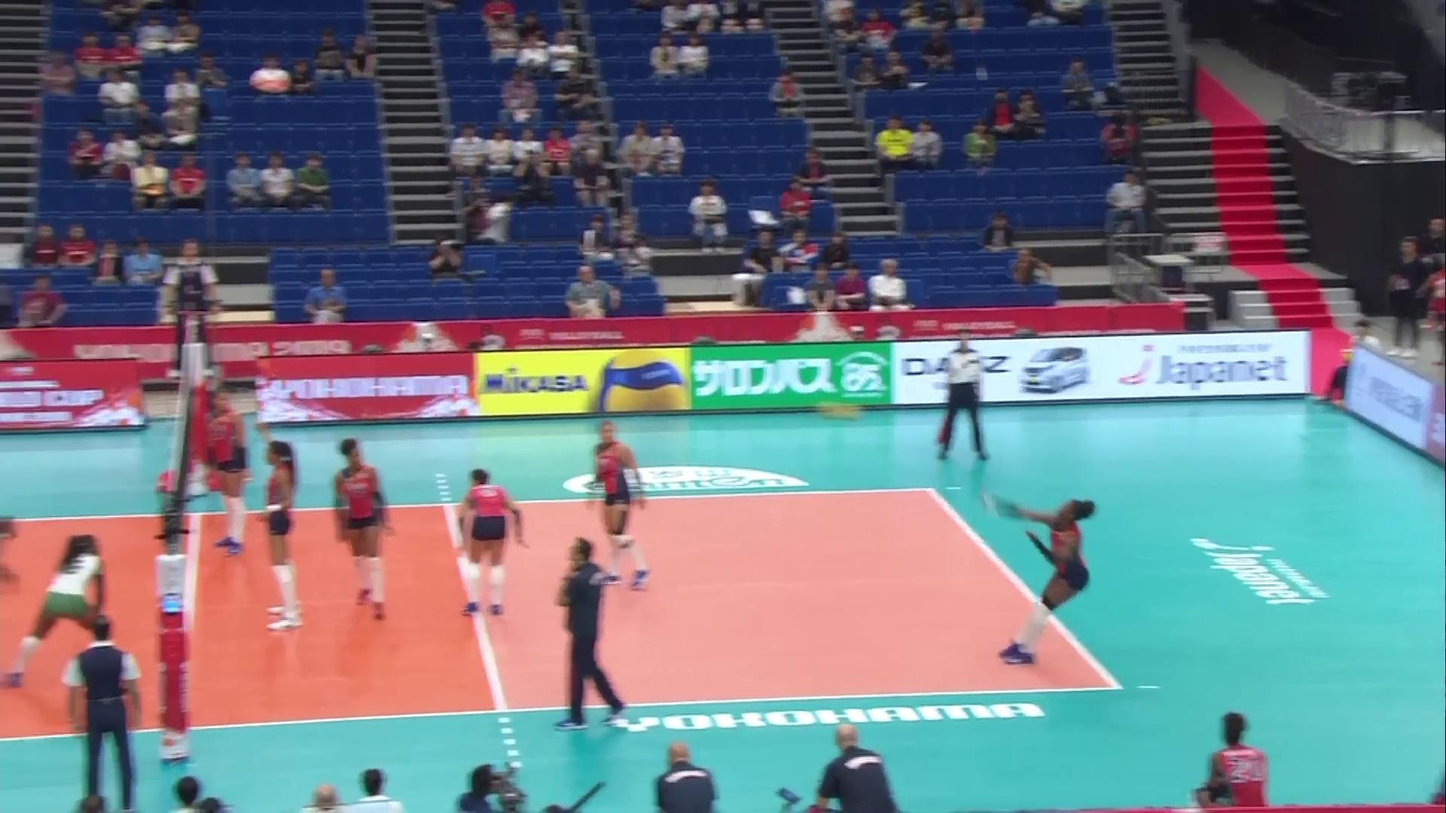player: (6, 535, 124, 686), (999, 501, 1092, 666), (331, 437, 395, 617), (452, 471, 529, 619), (589, 423, 652, 588), (257, 438, 304, 629), (206, 389, 250, 559)
refree: (66, 617, 141, 813), (165, 239, 218, 379), (938, 327, 990, 461)
